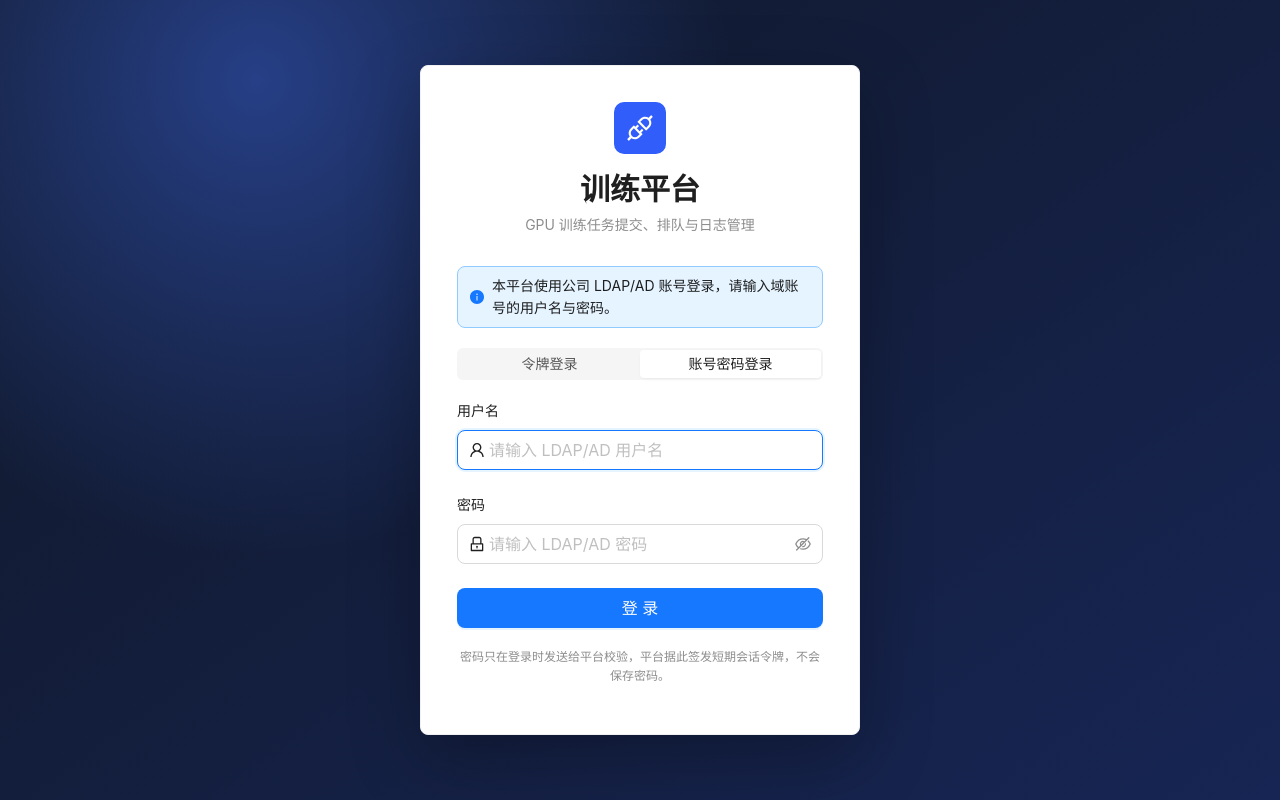
LoginPage › ldap 登录失败时展示统一的错误信息
Step 1. Type "alice" into the field labelled "用户名" → [650, 450], box [489, 438, 811, 462]
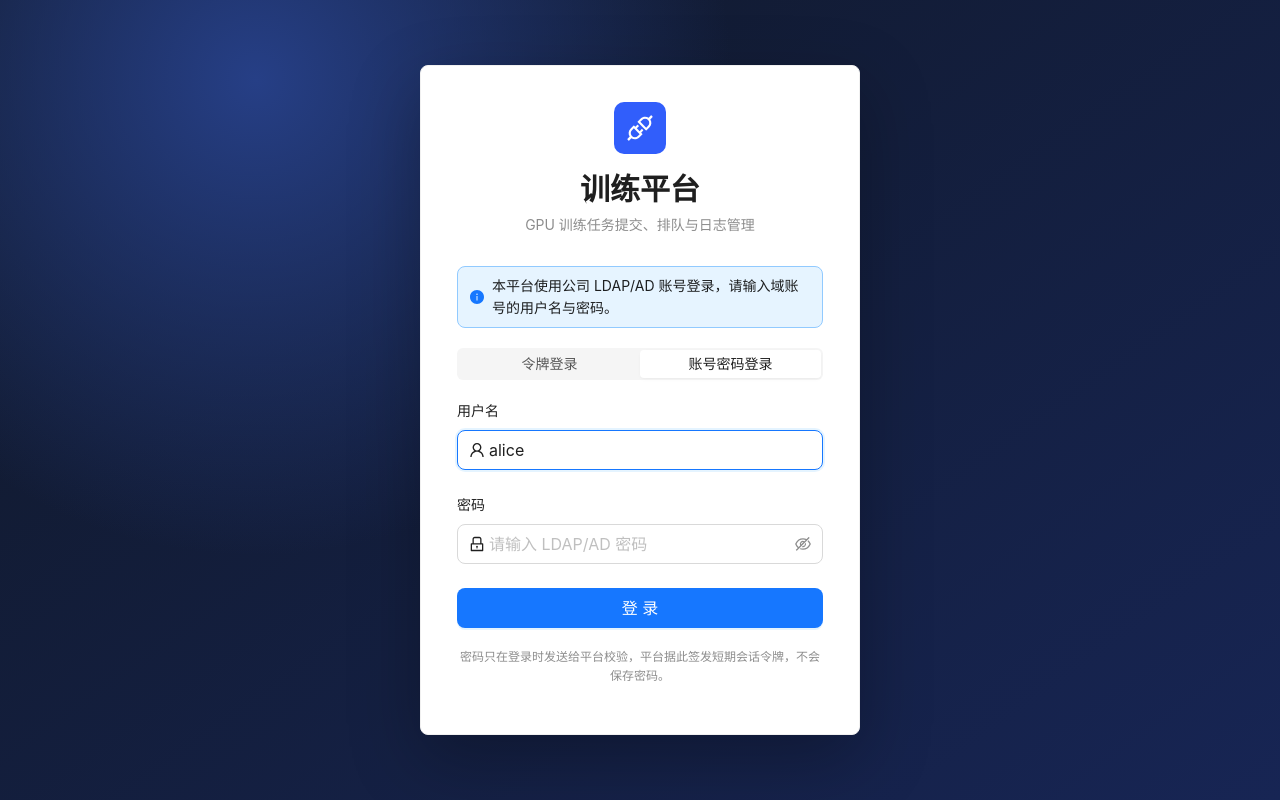
Step 2. Type "wrong" into the password field labelled "密码" → [640, 544], box [489, 532, 791, 556]
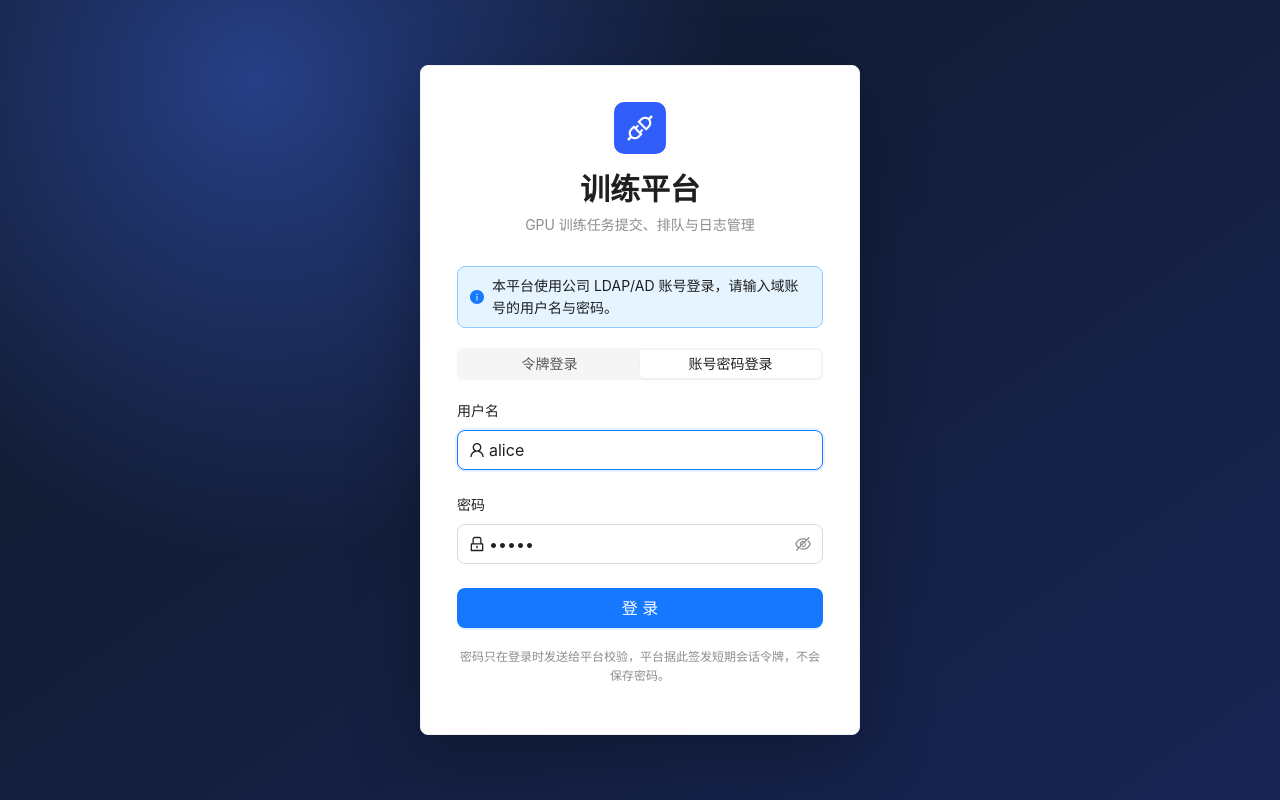
Step 3. Click the button "登 录" → [640, 608], box [457, 588, 823, 628]
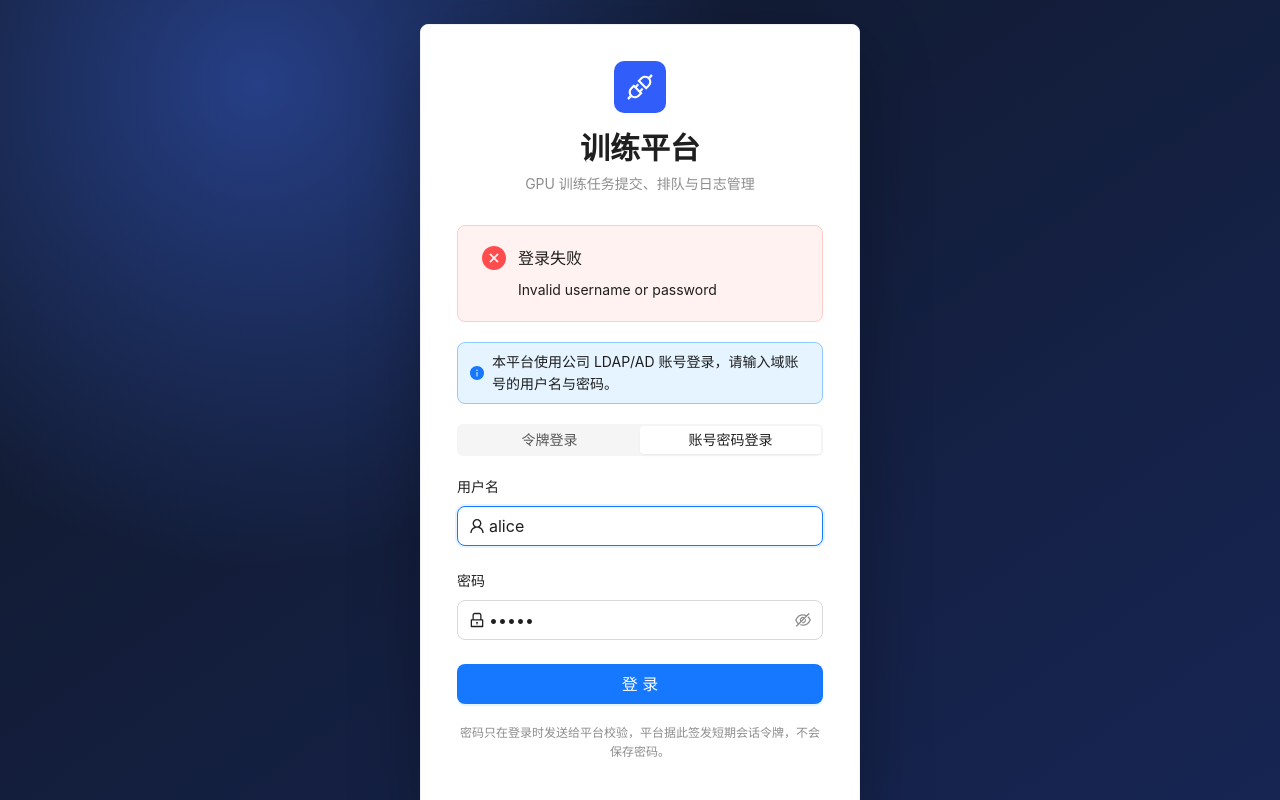
Expected: the text "Invalid username or password" is shown, [518, 281, 717, 298]
